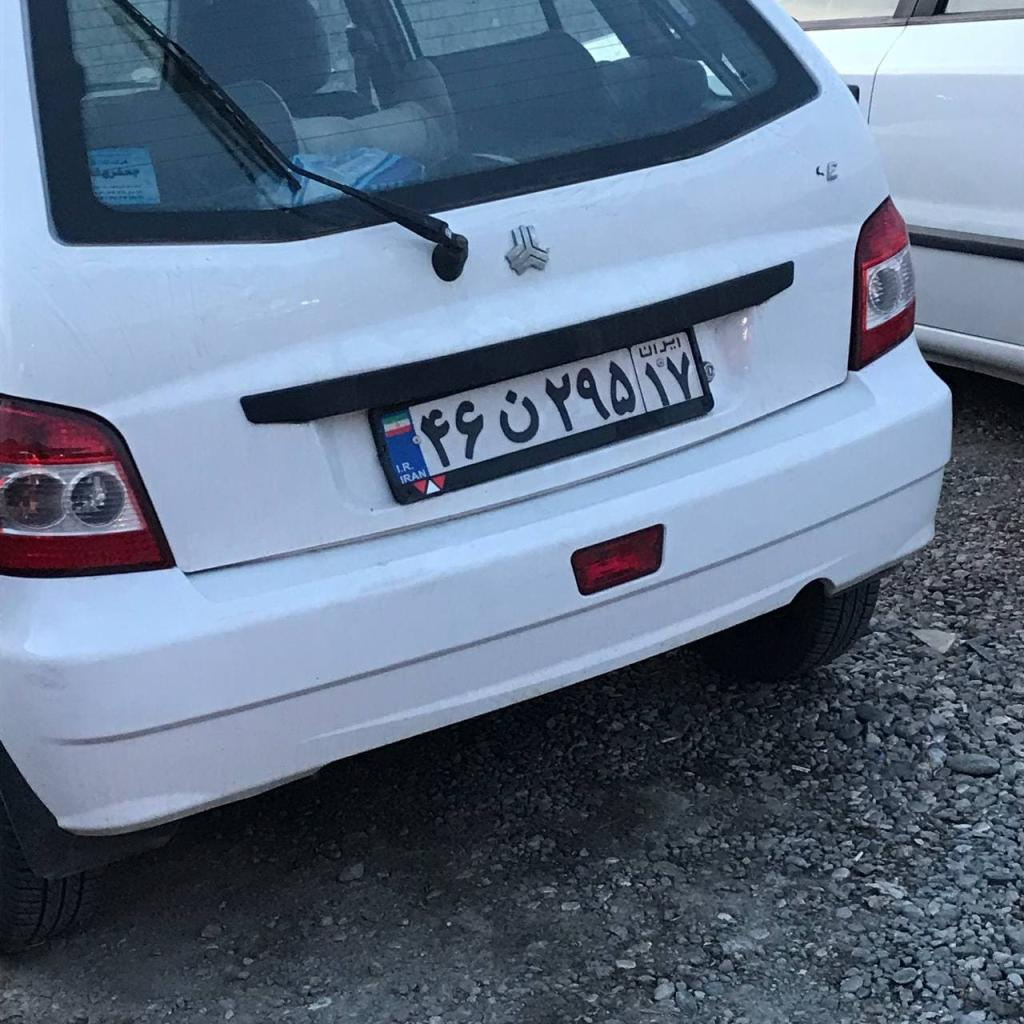Plates: (375, 331, 704, 487)
